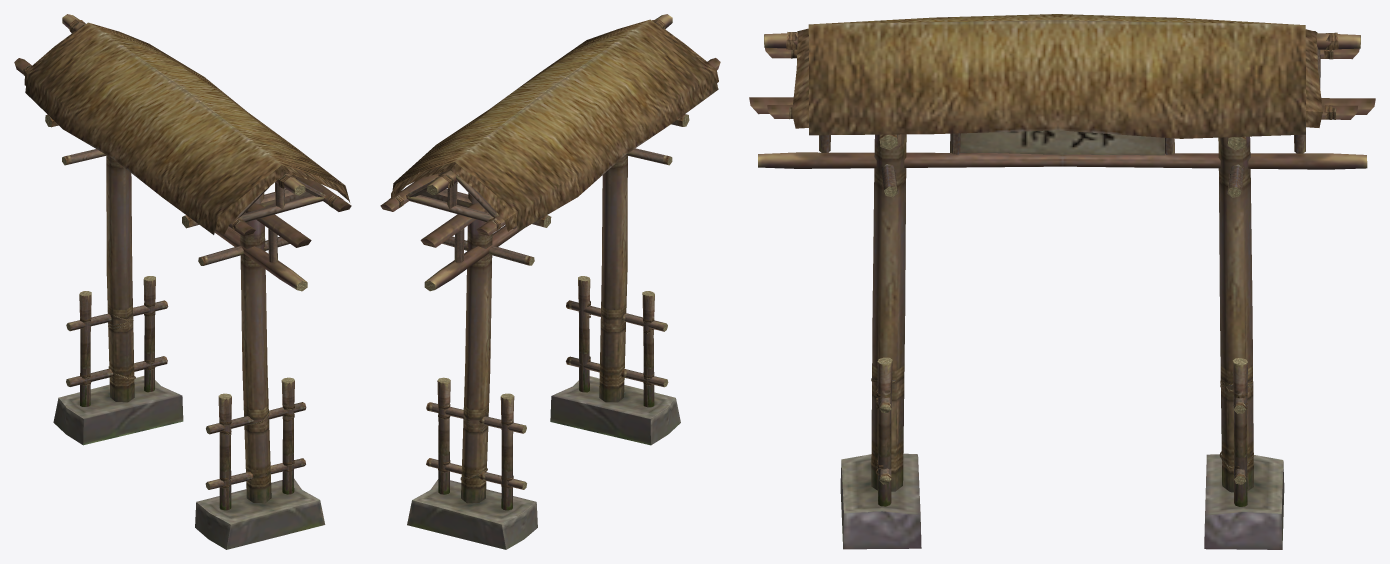
The model's file is DBXJ_03.FBX.
3 renders of one model, left to right at view 1: azimuth 30°, elevation 25°; view 2: azimuth 150°, elevation 25°; view 3: azimuth 270°, elevation 25°, orthographic. The views are drawn at different scales.
Visible parts, largest first — view 1: DBXJ_03; view 2: DBXJ_03; view 3: DBXJ_03.
Boxes of the visible parts, x1=… form: DBXJ_03: x1=14, y1=14, x2=351, y2=549; DBXJ_03: x1=380, y1=14, x2=720, y2=549; DBXJ_03: x1=749, y1=14, x2=1375, y2=549.
Size of the model in its own units: 322 by 805 by 926.
1 material, 1 textured.
